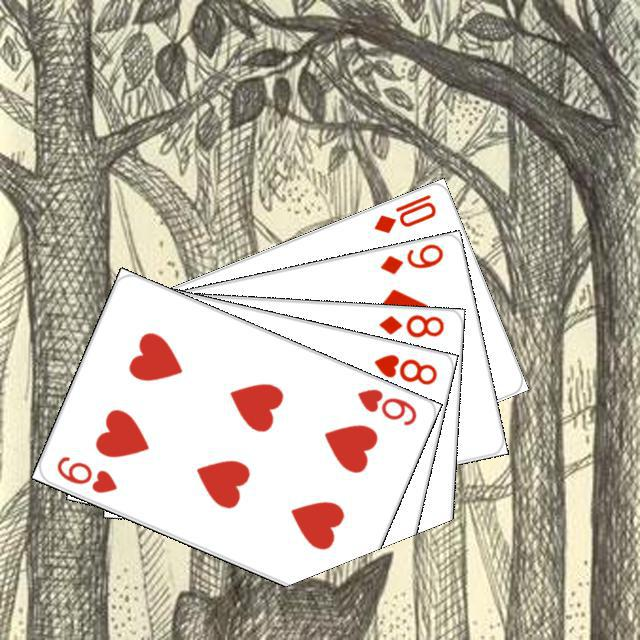10d: (368, 189, 438, 235)
6h: (352, 383, 419, 428), (51, 451, 119, 495)
8d: (374, 310, 445, 340)
8h: (369, 349, 439, 387)
9d: (375, 239, 445, 276)
